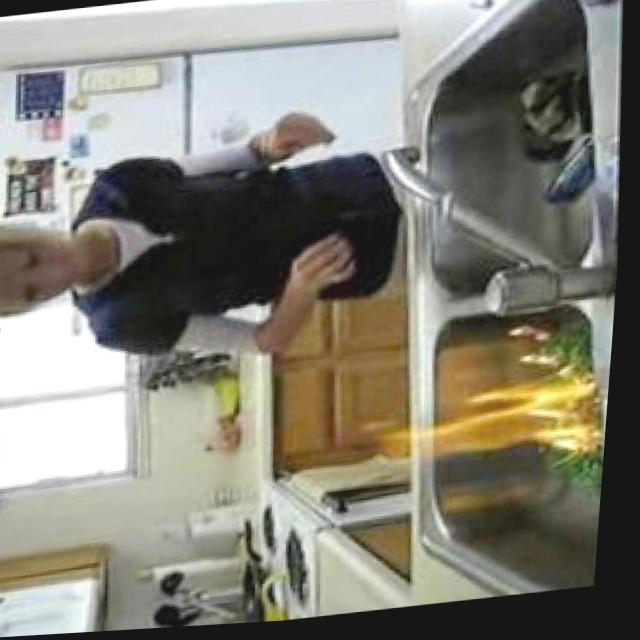helmet: (389, 364, 609, 481), (502, 322, 581, 395), (505, 321, 583, 382)
